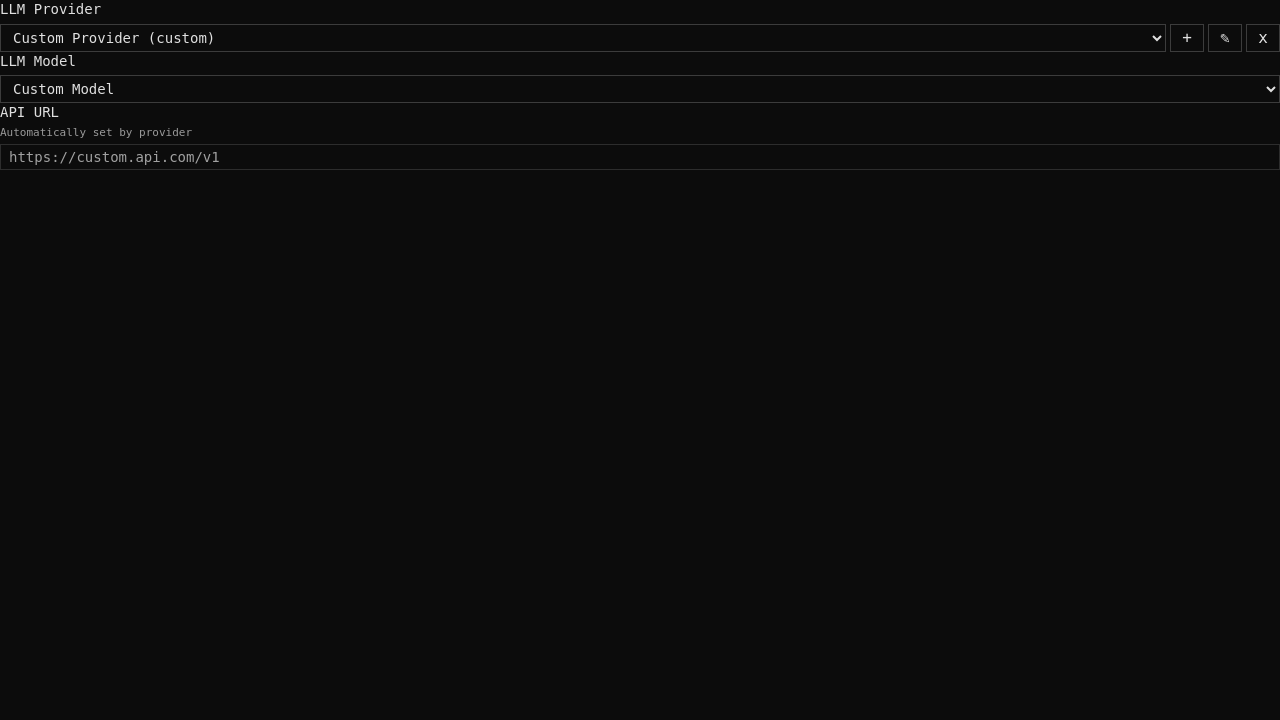
Test: ProviderSelect › Edit provider modal › opens edit modal when edit button clicked
What coordinates should you click on to do the following:
click the button titled "Edit provider"
I would click on:
 (1225, 38)
Its box is [1208, 24, 1242, 52].
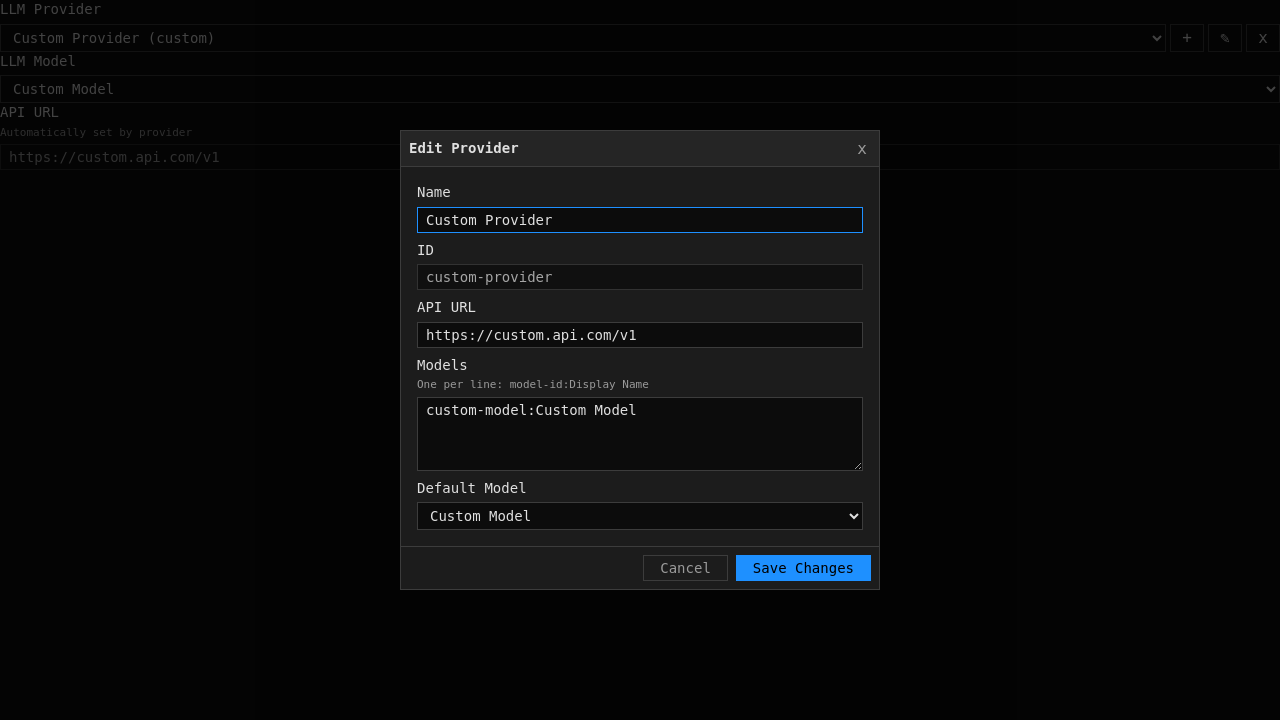
expect the heading "Edit Provider" is shown: met, box [409, 138, 519, 158]
